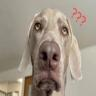dog: (18, 8, 83, 96)
